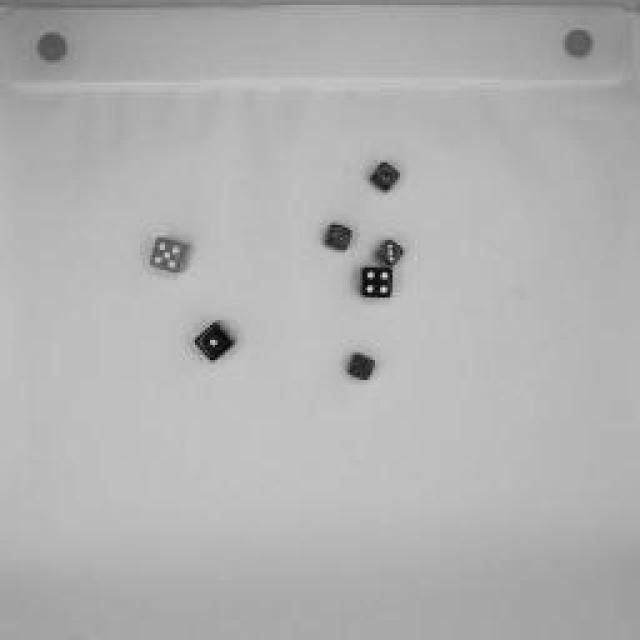dice_1: (191, 319, 239, 366), (366, 159, 404, 196)
dice_3: (319, 220, 356, 255), (372, 236, 406, 272)
dice_4: (355, 265, 400, 303), (340, 349, 380, 386)
dice_5: (146, 232, 196, 278)
